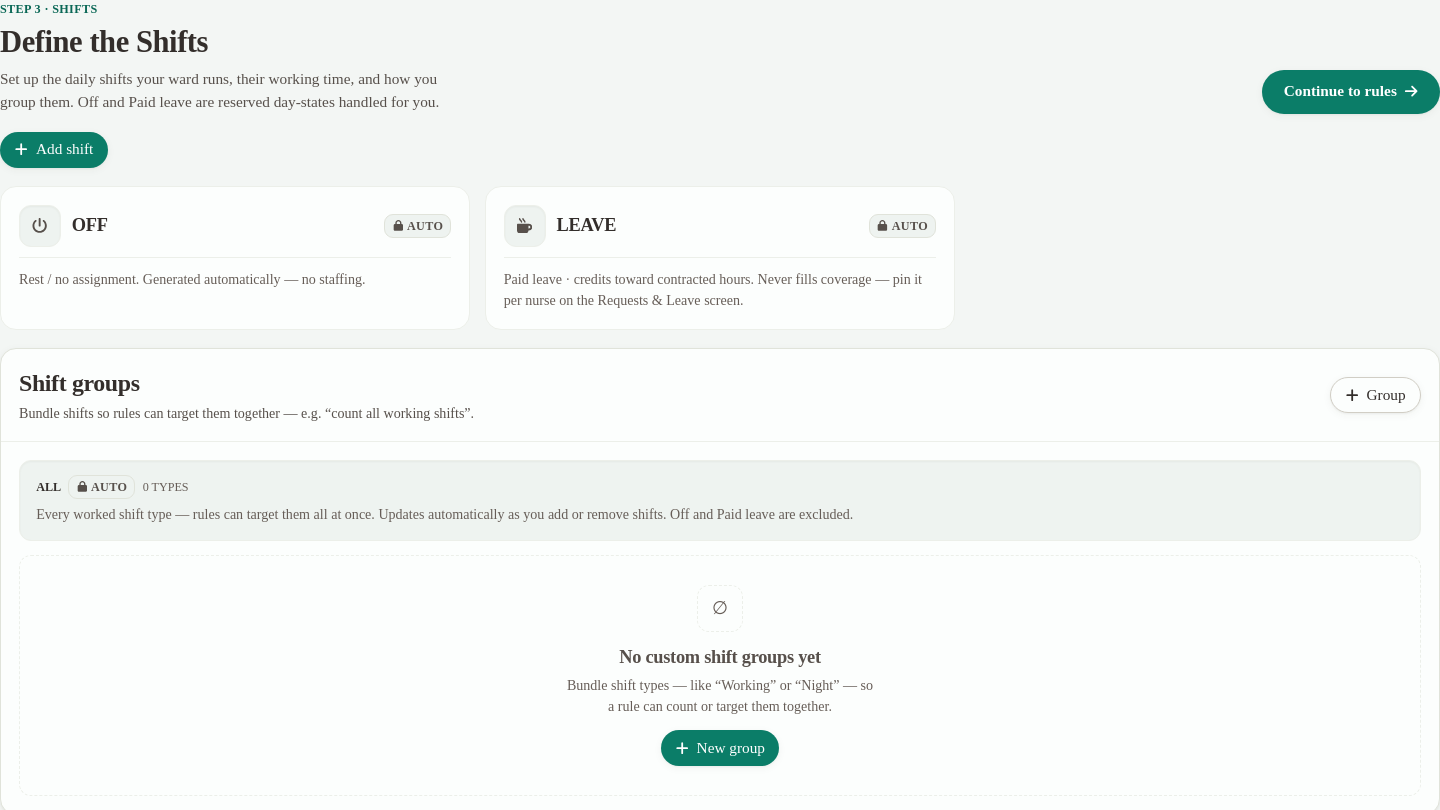
Test: ShiftTypeGrid — staffing states › forbids a new numeric-only code with an inline error and blocks save
The image size is (1440, 810).
Click the button with test id "add-shift-toggle".
click(54, 150)  # box x1=0 y1=132 x2=108 y2=168
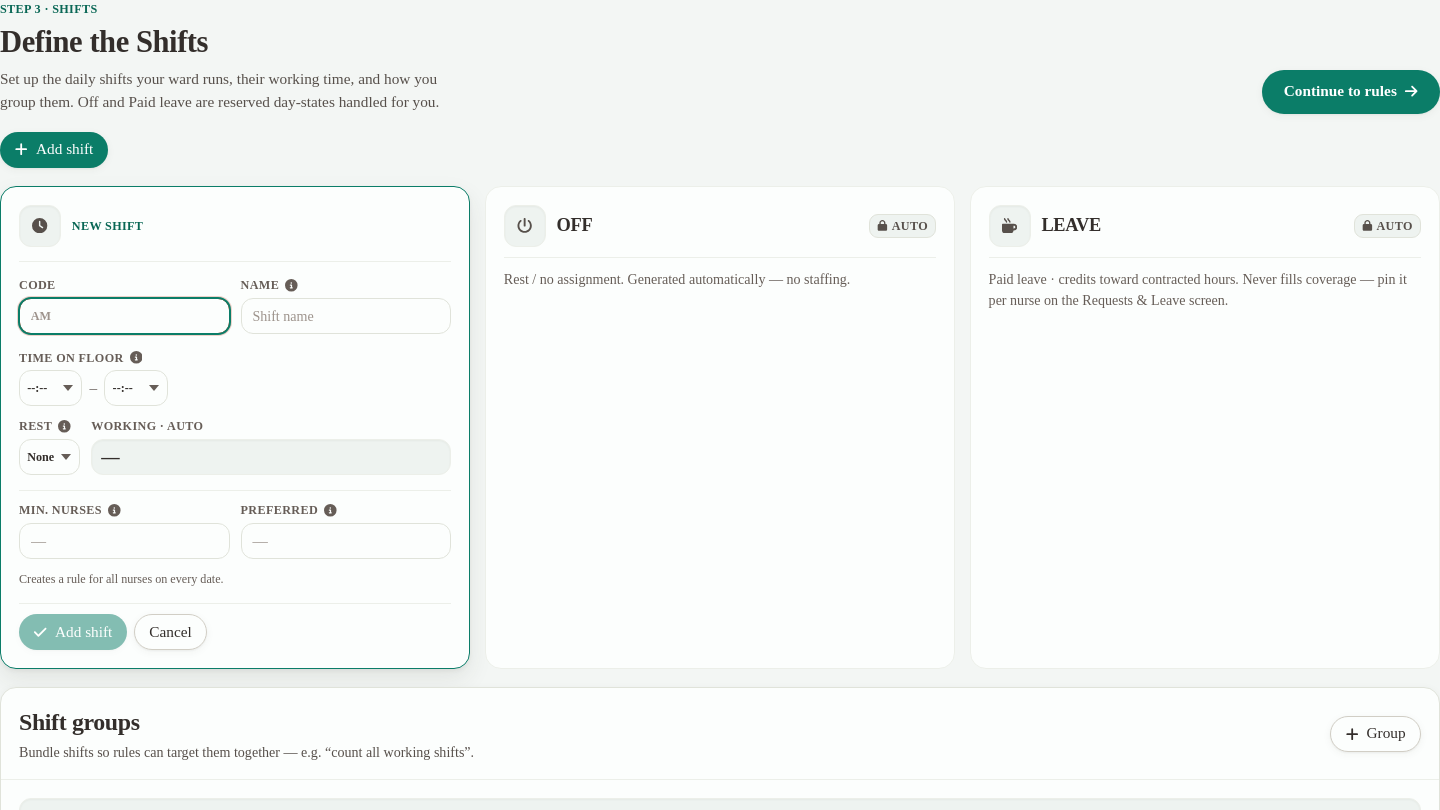
Type "1" into the field with test id "shift-add-code".
click(124, 316); type("1")  # box x1=19 y1=298 x2=230 y2=334
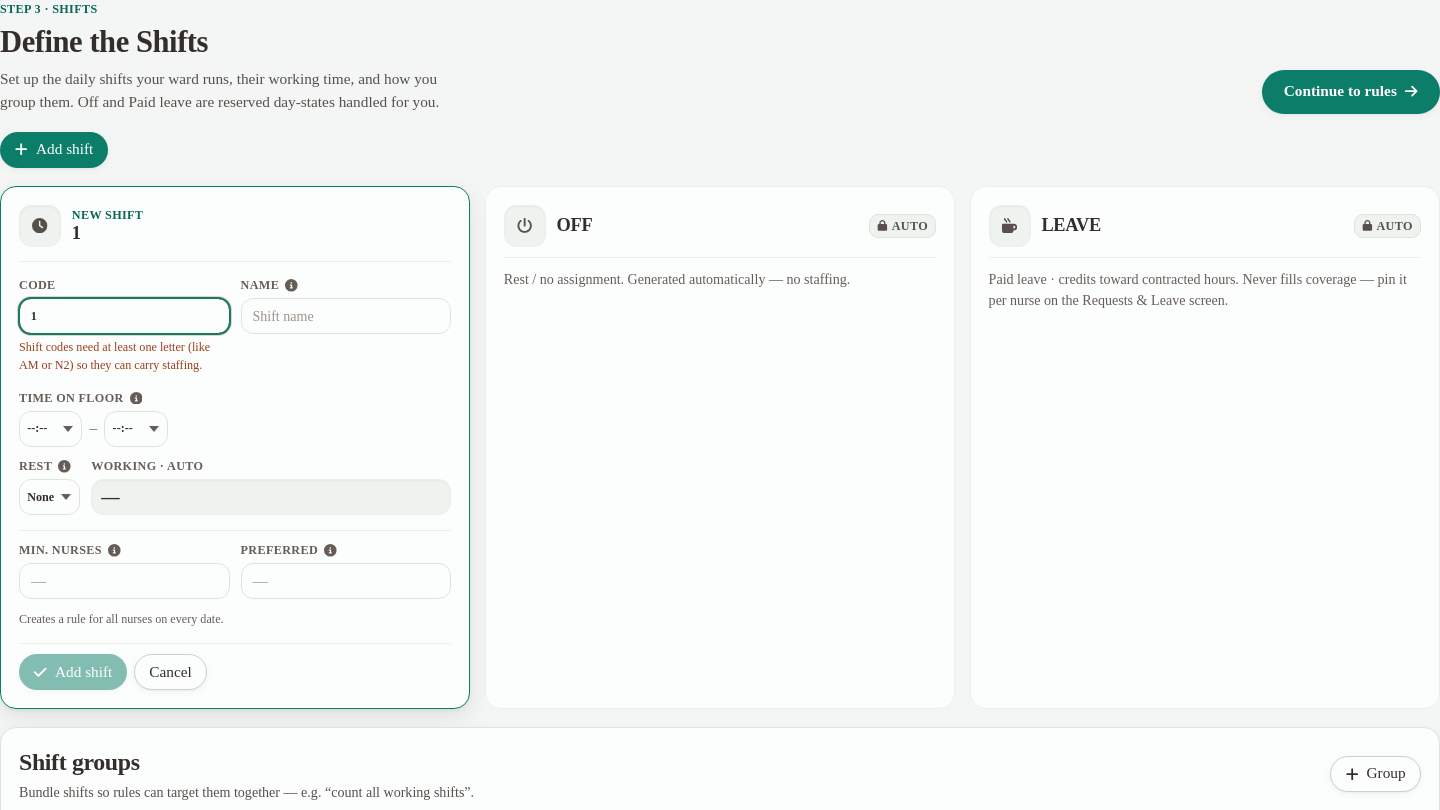
Expected: the button with test id "shift-add-save" is disabled, x1=19 y1=654 x2=127 y2=690
Expected: the text "at least one letter" is shown, x1=19 y1=340 x2=210 y2=372
Replace the text in the field with test id "shift-add-code" with "N2" at (124, 316), box x1=19 y1=298 x2=230 y2=334
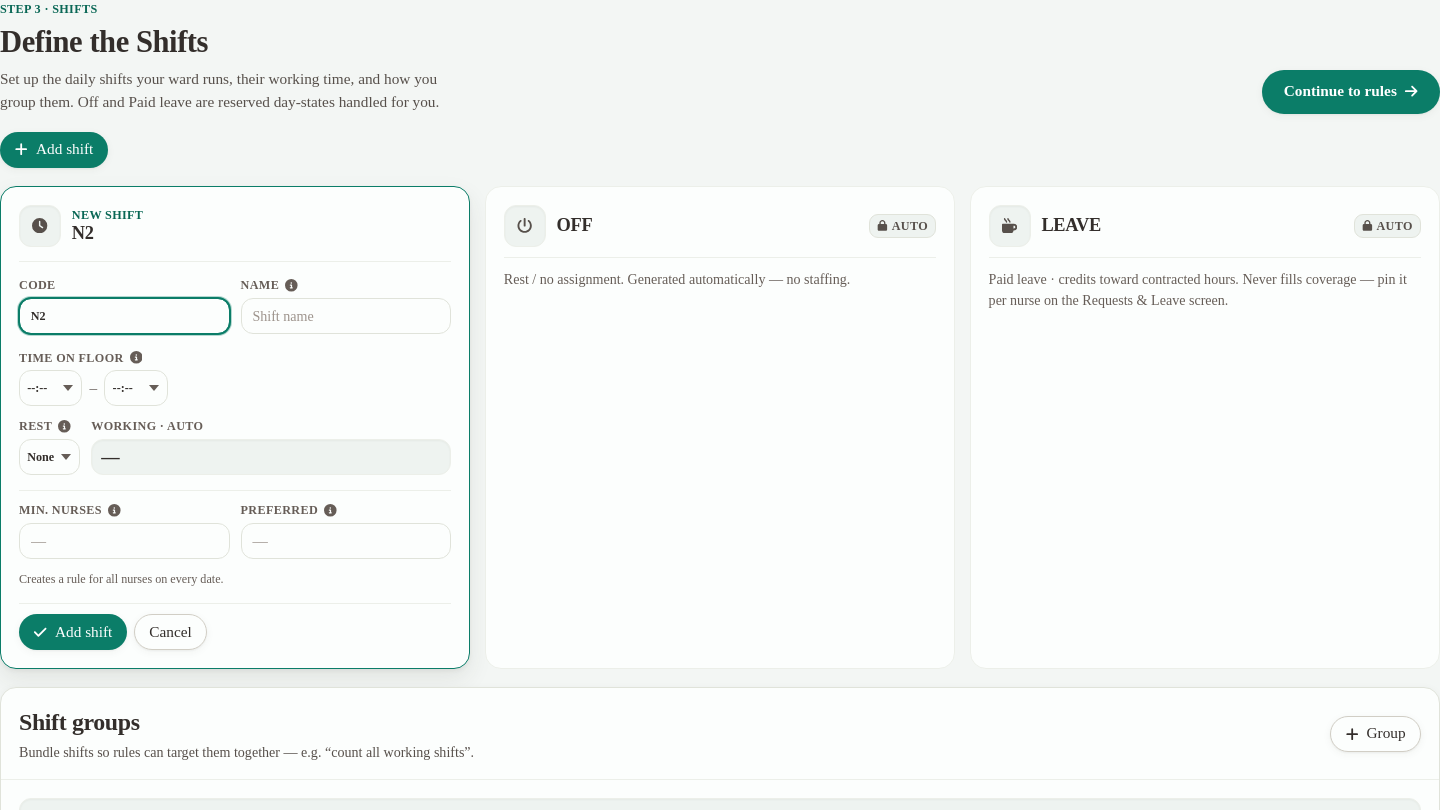
Expected: the text "at least one letter" is gone
Expected: the button with test id "shift-add-save" is enabled, x1=19 y1=614 x2=127 y2=650
